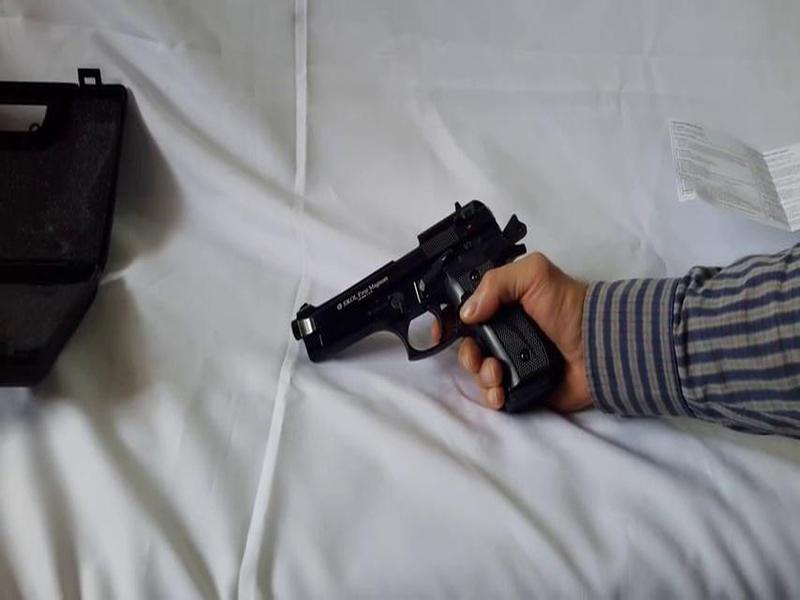Pistola: (247, 186, 578, 426)
